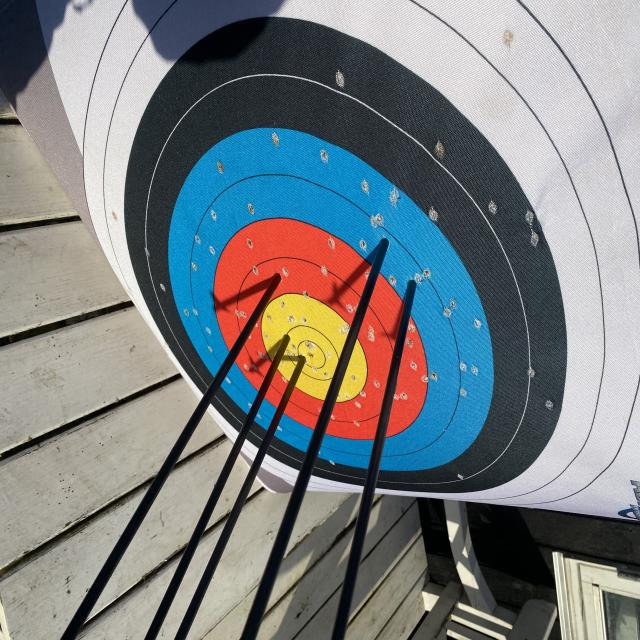Arrow_Blue: (370, 225, 400, 272), (398, 269, 424, 308)
Arrow_Red: (260, 263, 290, 305)
Arrow_Yellow: (295, 349, 311, 382), (278, 326, 295, 357)
